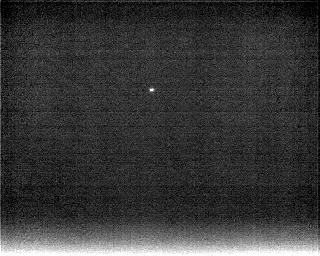AIRPLANE: (147, 85, 157, 95)
